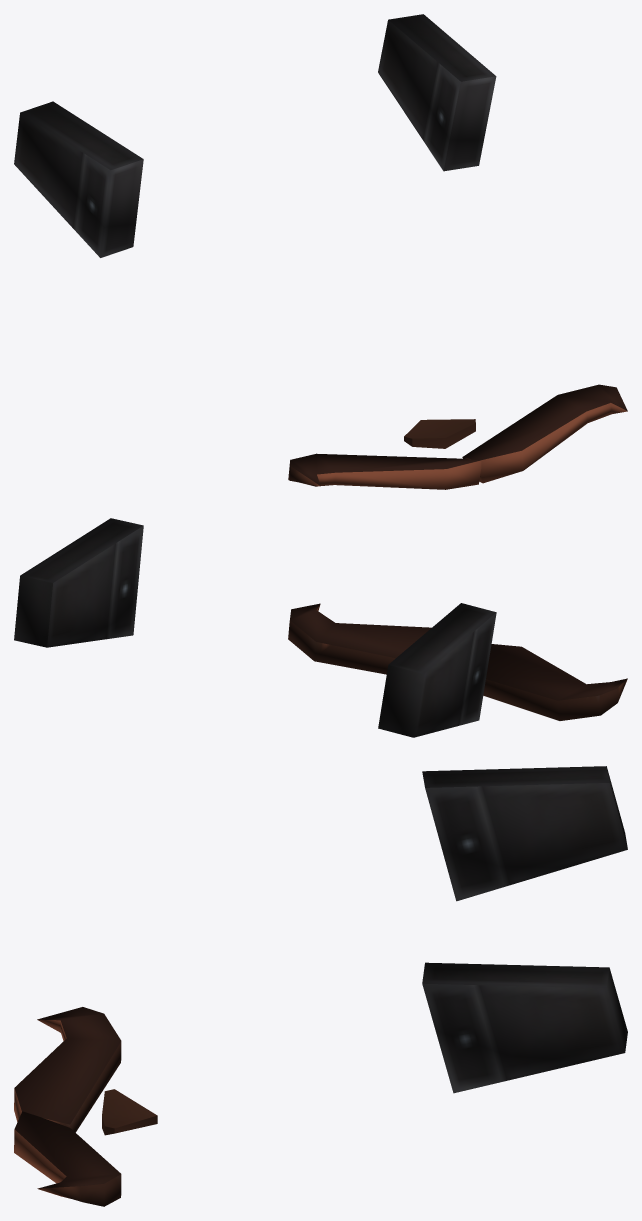
The model's file is Avatar_Cowboy_H_02_1_d997f4ea__Avatar_Cowboy_C_01_4060721f_c1f257.obj.
3 renders of one model, top to bottom at view 1: azimuth 30°, elevation 25°; view 2: azimuth 150°, elevation 25°; view 3: azimuth 270°, elevation 25°, orthographic. The views are drawn at different scales.
Bounding box in the file's own units: 0.7028 × 0.399 × 0.8202.
1 material, 1 textured.
